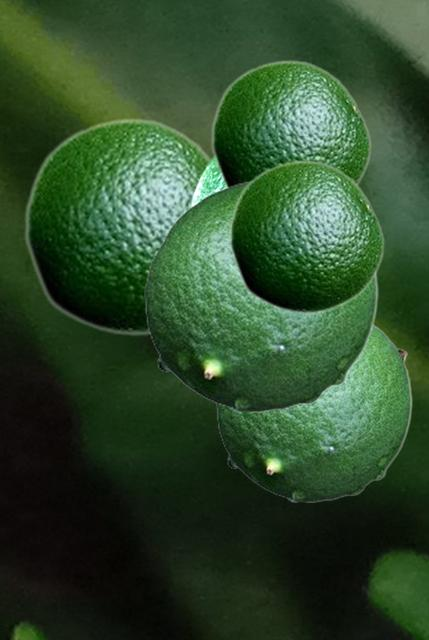calamansi: (144, 179, 377, 411), (23, 117, 211, 336), (216, 322, 411, 501), (228, 159, 384, 314), (210, 59, 371, 187), (191, 157, 223, 205)
